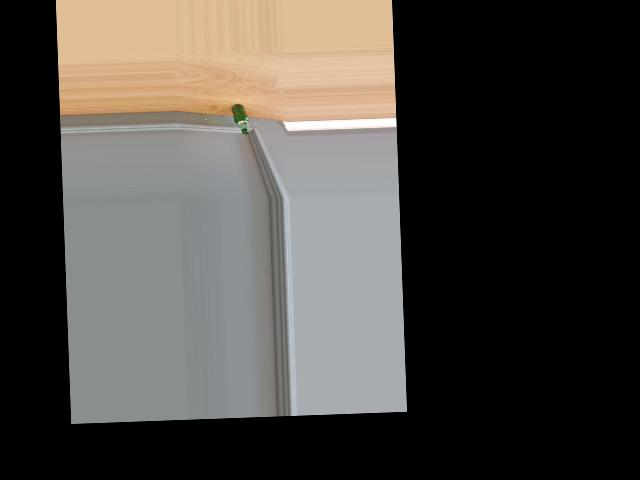beer: (232, 103, 248, 134)
